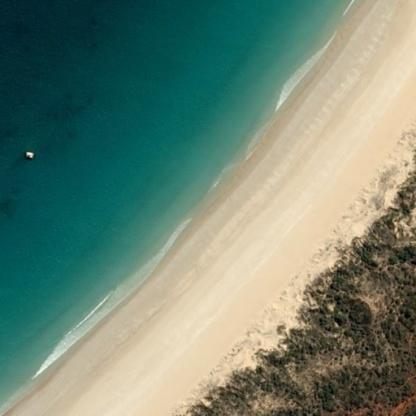ship: (24, 151, 34, 159)
